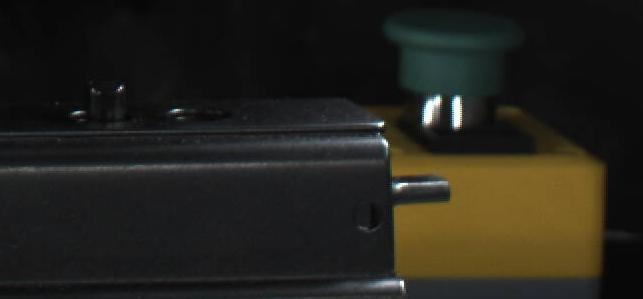rubber: (382, 170, 455, 207)
screw: (82, 72, 132, 125)
